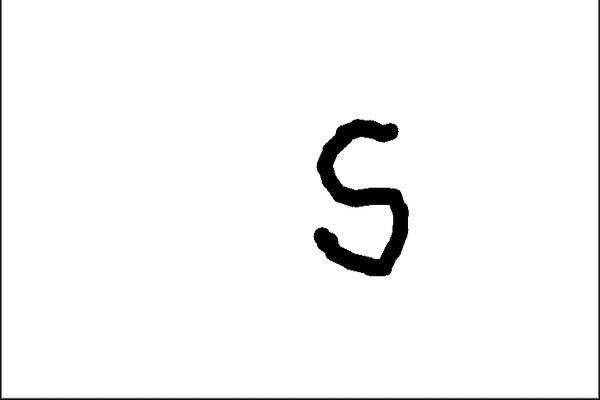S: (301, 107, 418, 282)
